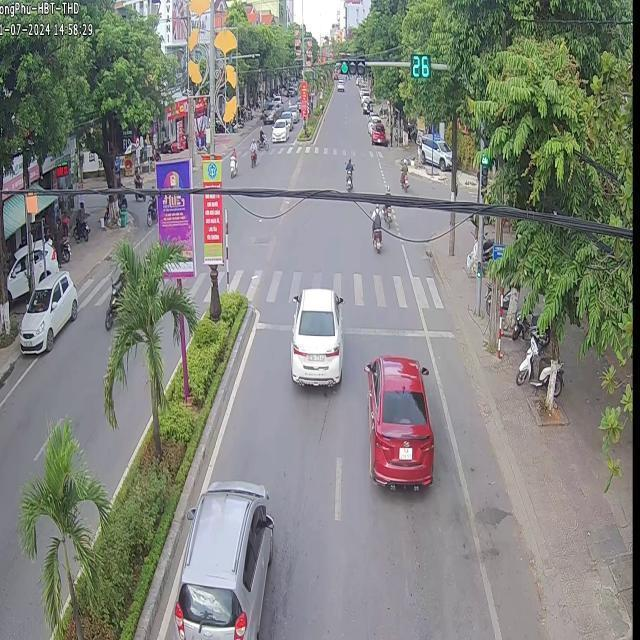car: (172, 478, 272, 638), (363, 354, 432, 488), (289, 287, 342, 385)
green_light: (477, 134, 489, 192), (338, 56, 364, 74)
motobike: (369, 202, 380, 251), (343, 156, 352, 189)
stop_line: (342, 321, 454, 336), (254, 319, 291, 329)
